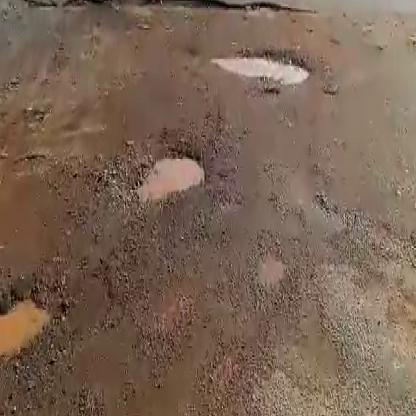pothole: (0, 281, 61, 367), (139, 145, 210, 204), (222, 48, 314, 86), (258, 243, 286, 293)
